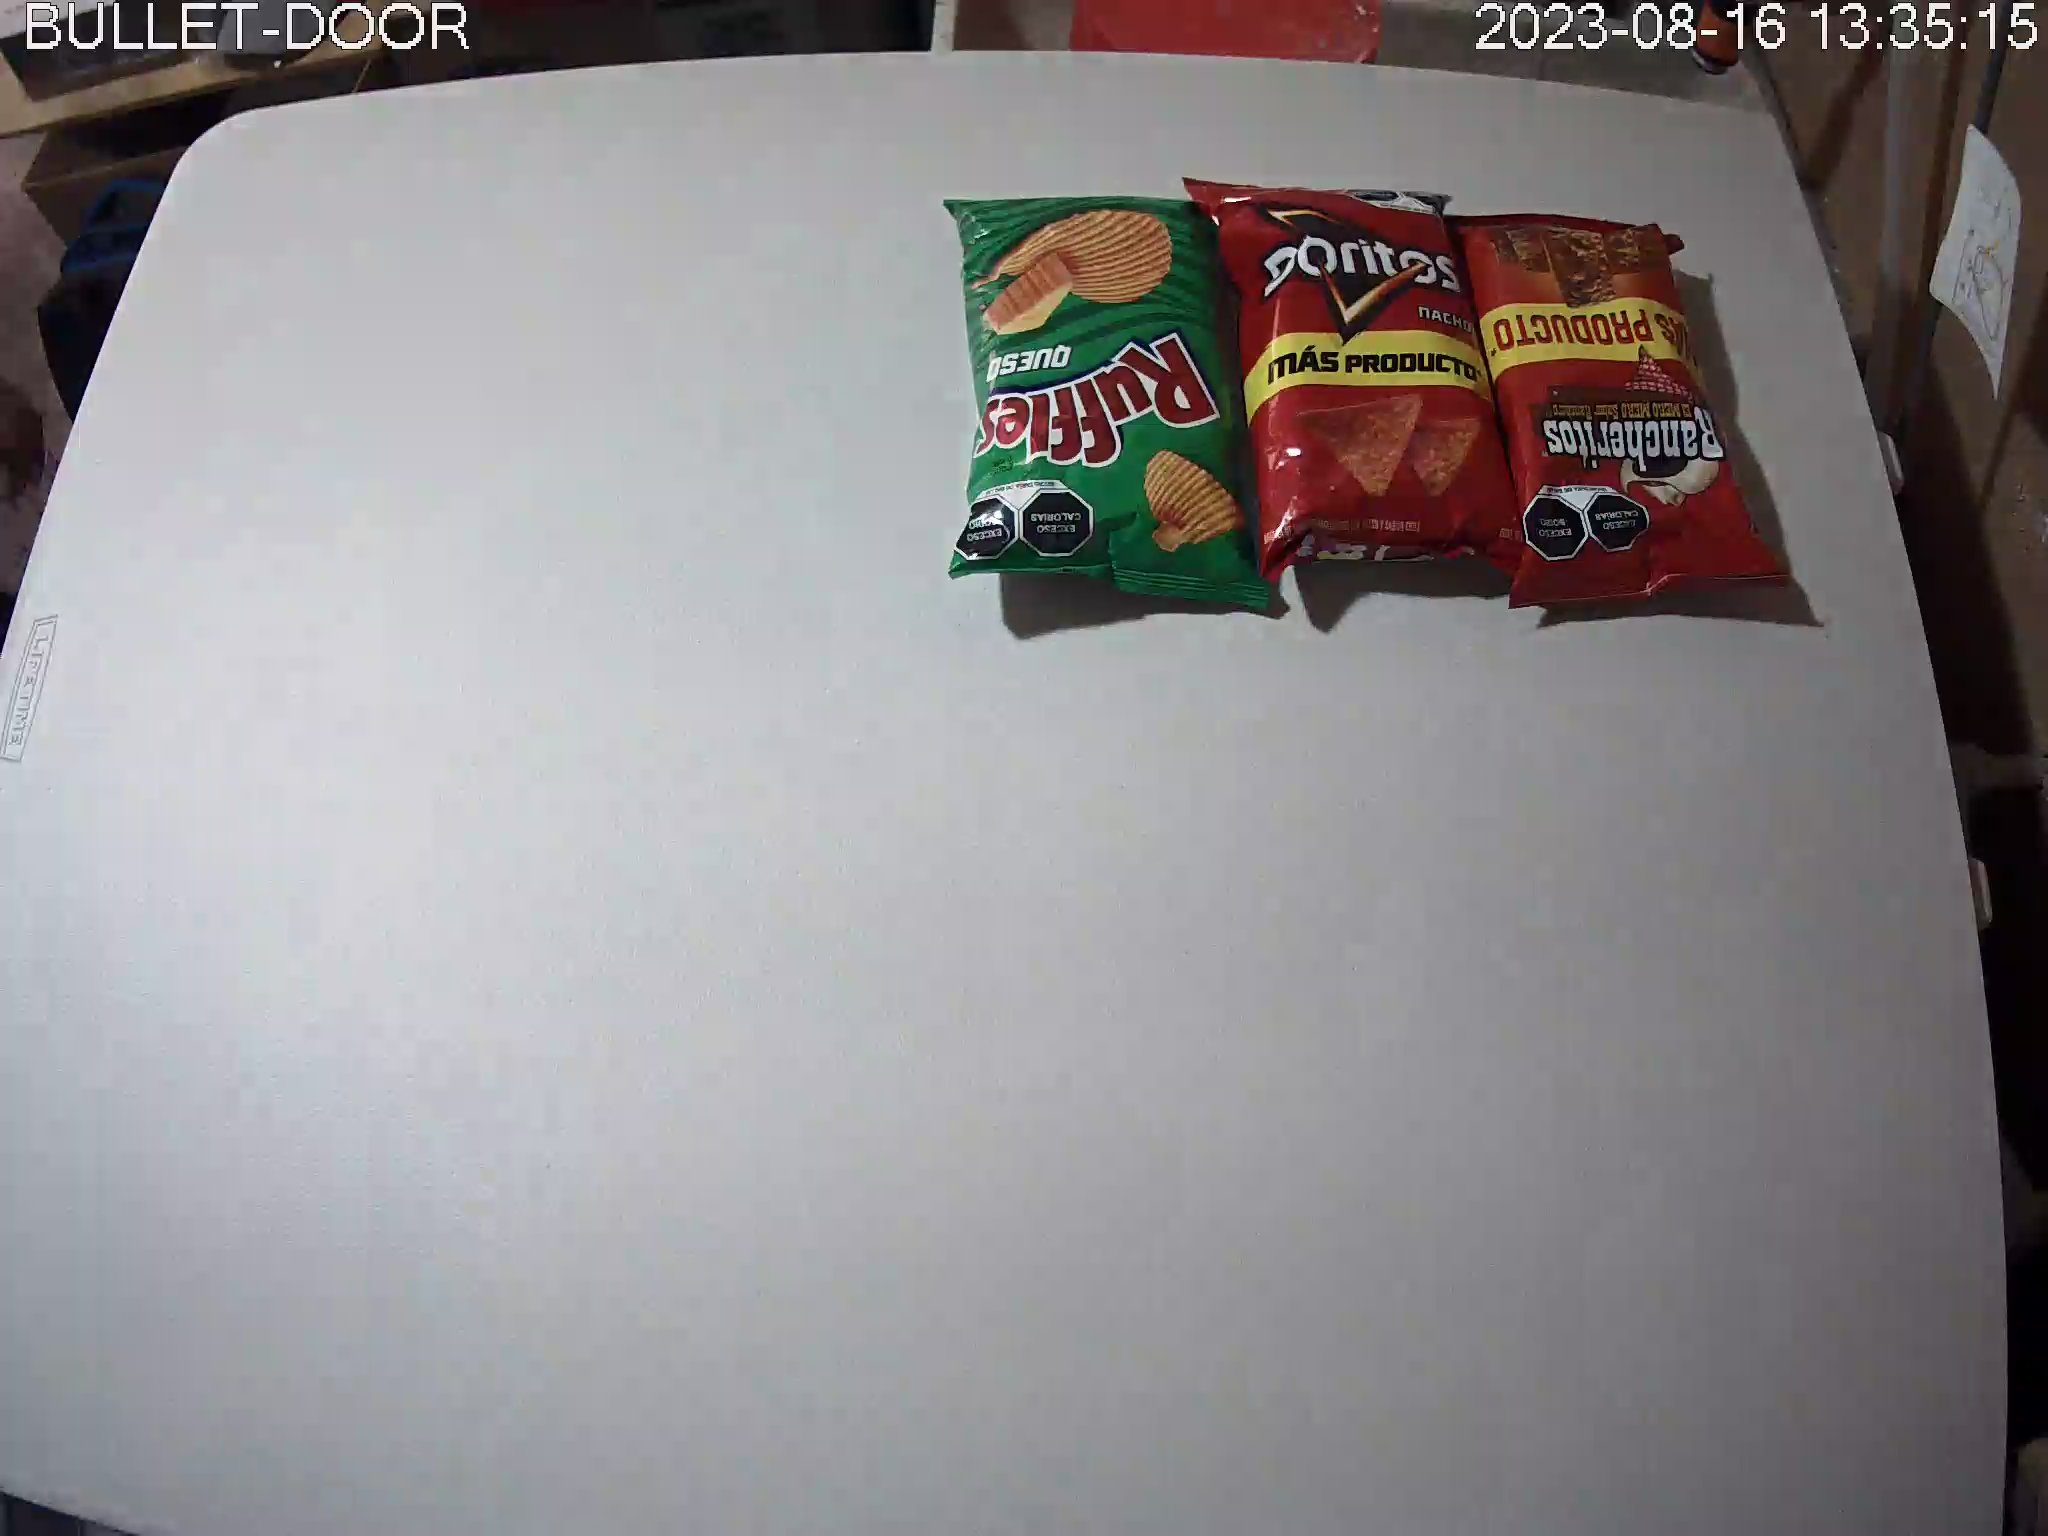DoritosN_61_F: (1184, 176, 1529, 587)
Rancheritos_58_F: (1442, 210, 1808, 611)
RufflesQ_48_F: (939, 195, 1272, 611)
